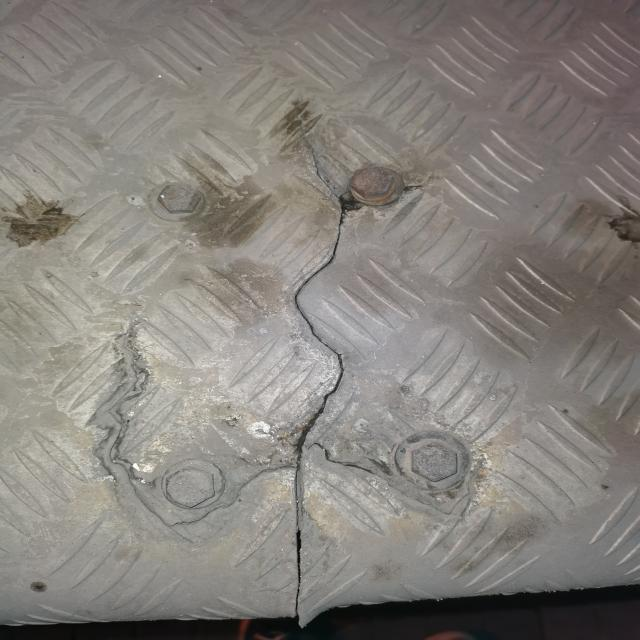bolt head: (162, 463, 218, 510), (407, 441, 460, 484), (348, 166, 398, 200), (155, 183, 203, 214)
